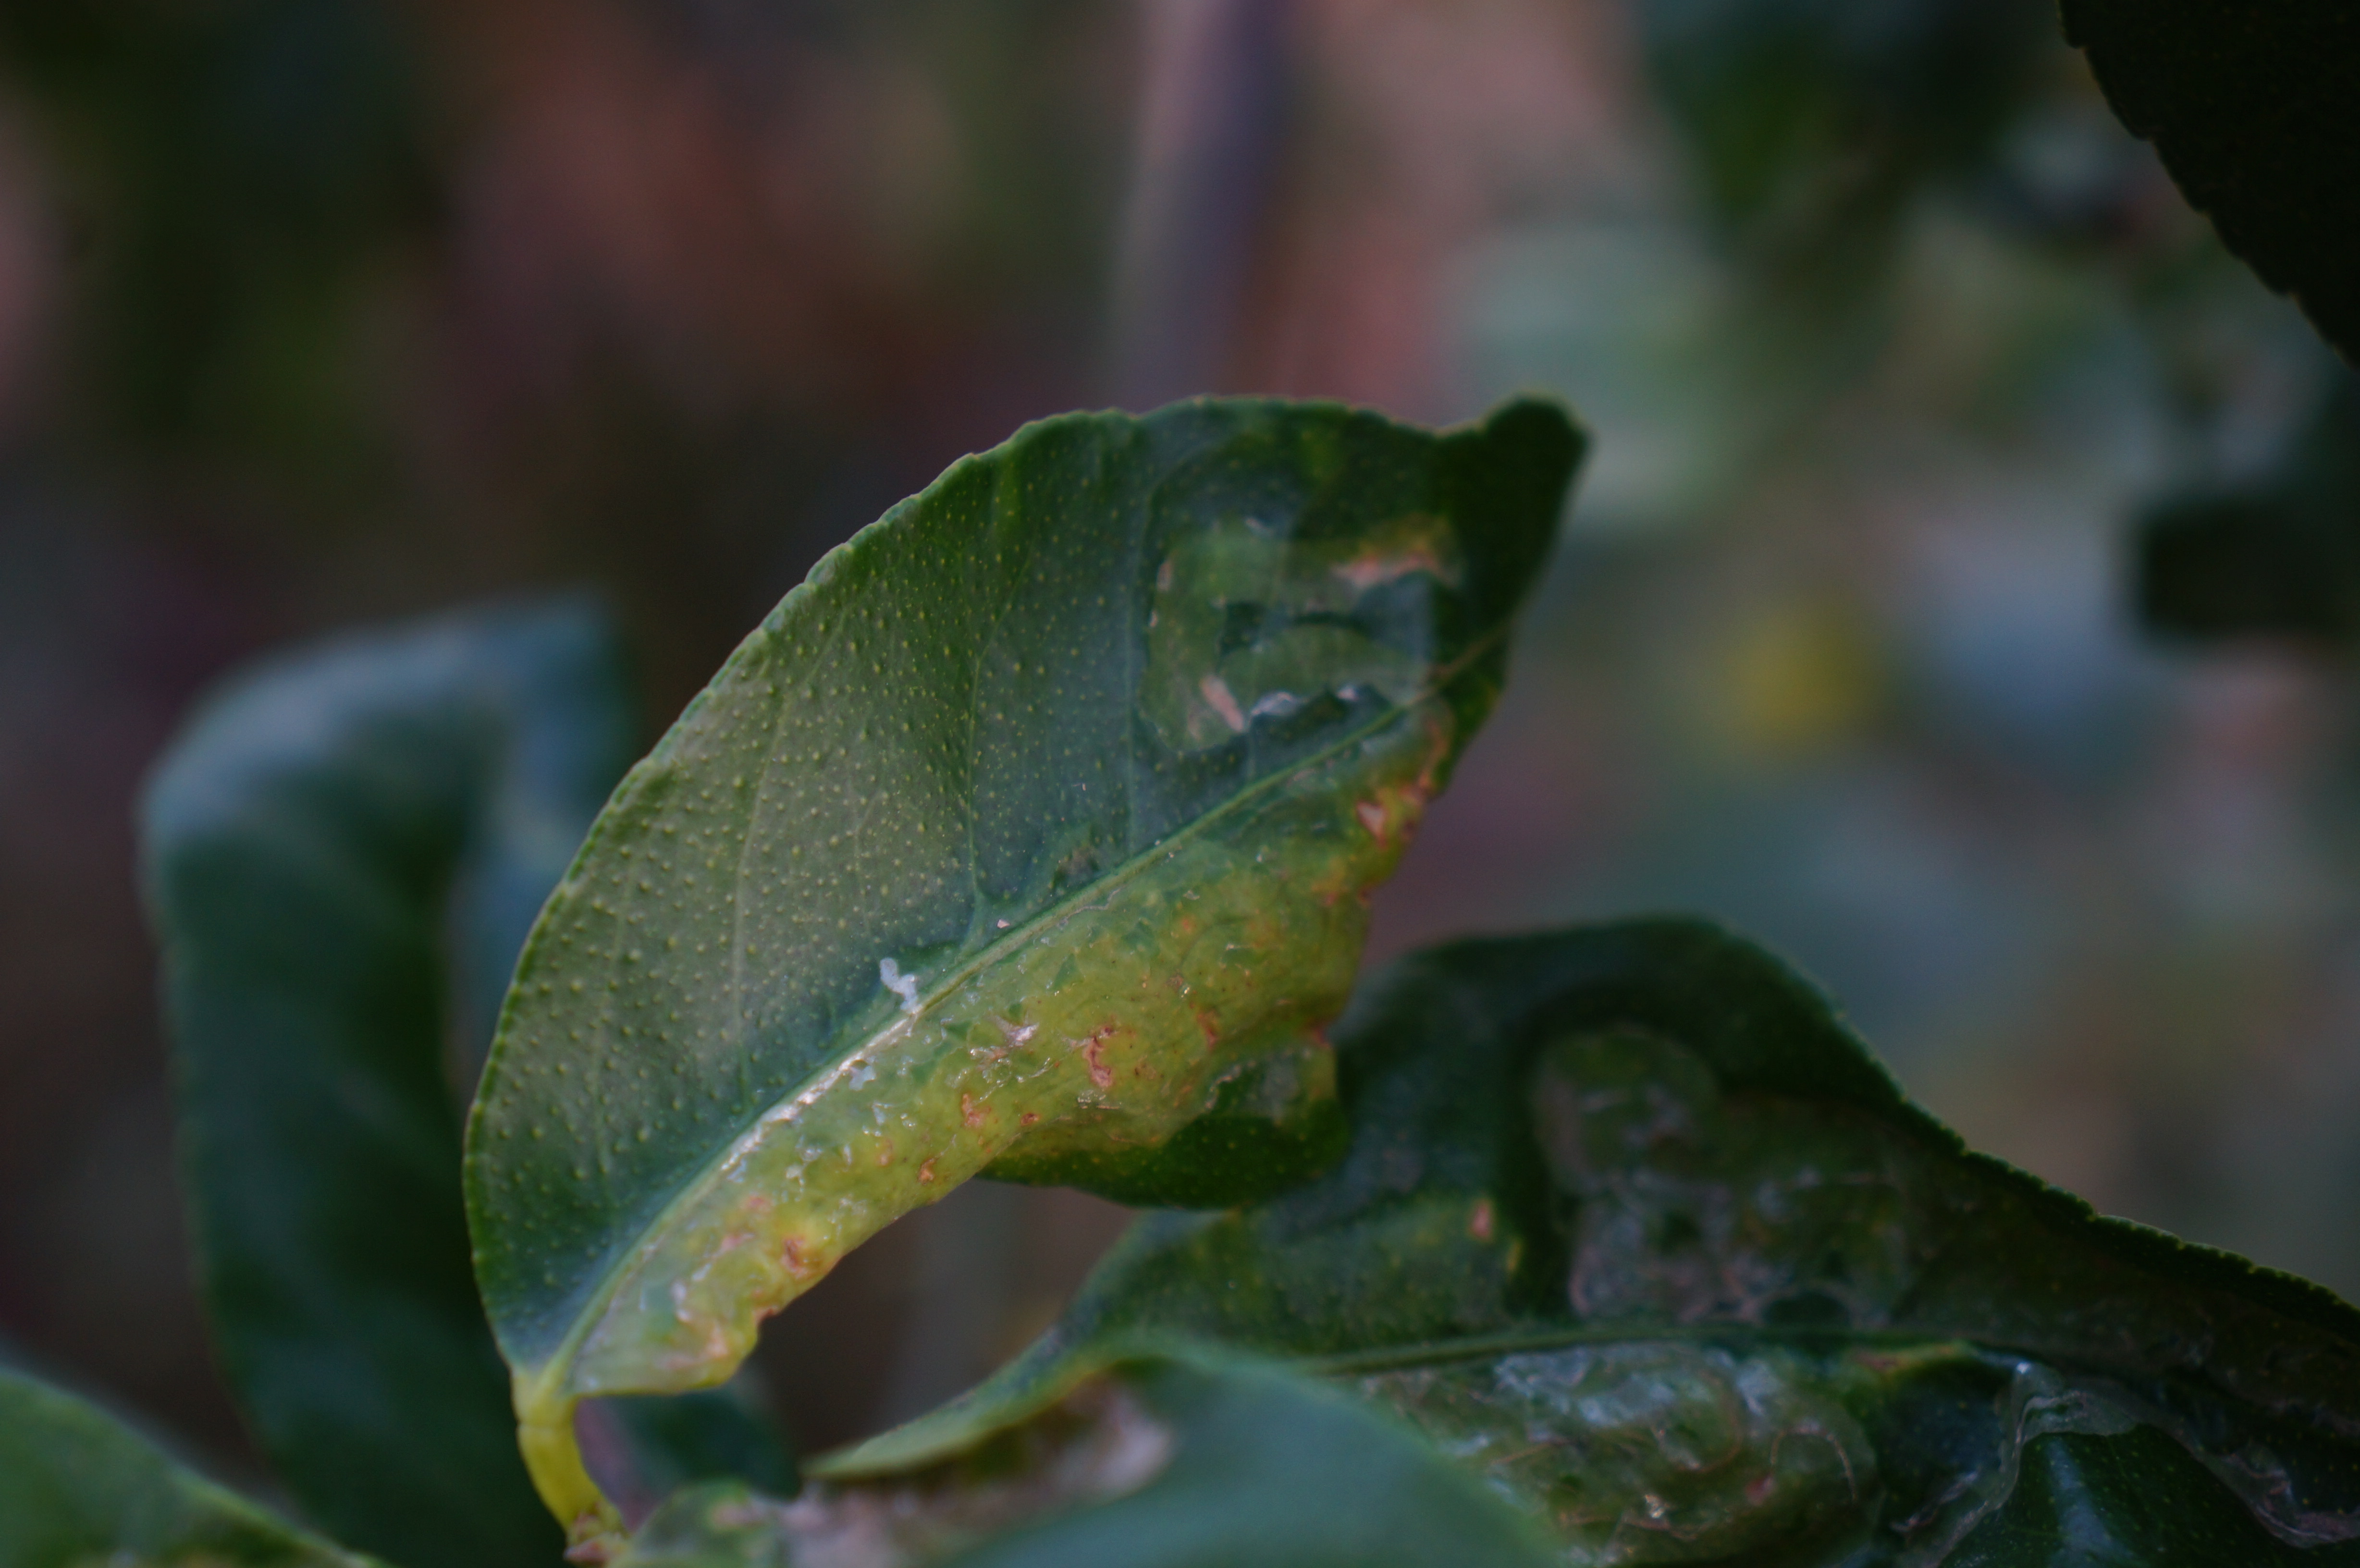curly: (430, 362, 1639, 1461)
damage: (1484, 1013, 2169, 1524), (1847, 1330, 2360, 1566)
